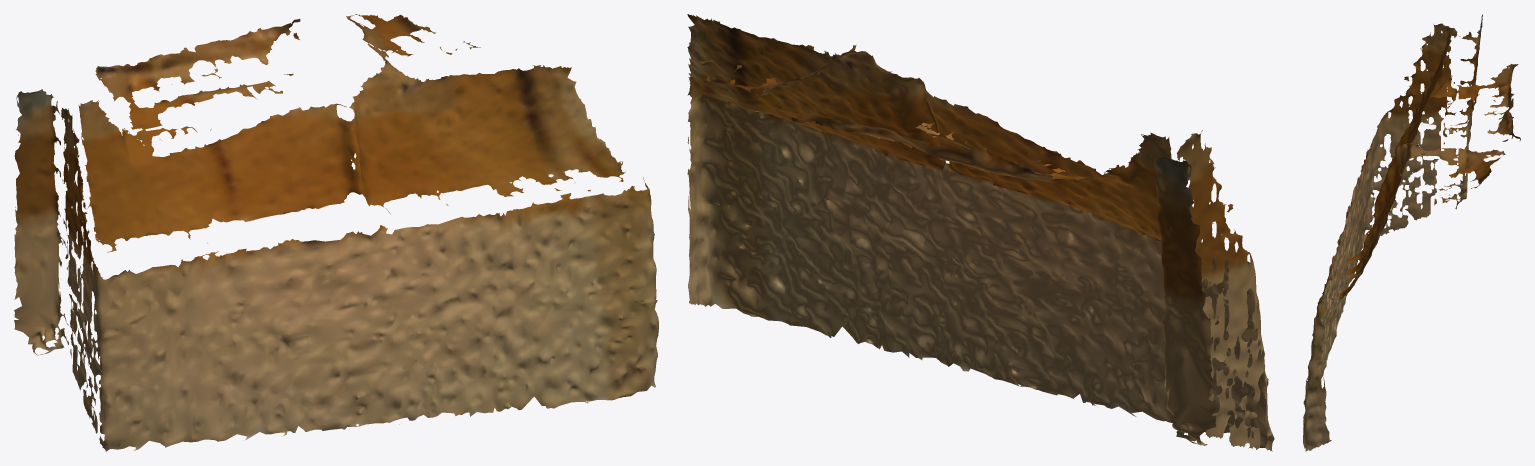
File: color_model_f001_20260205_111607.obj
3 views of the same model, side by side, from view 1: azimuth 30°, elevation 25°; view 2: azimuth 150°, elevation 25°; view 3: azimuth 270°, elevation 25° (orthographic). The views are drawn at different scales.
Size of the model in its own units: 1.84 by 1.09 by 0.8606.
